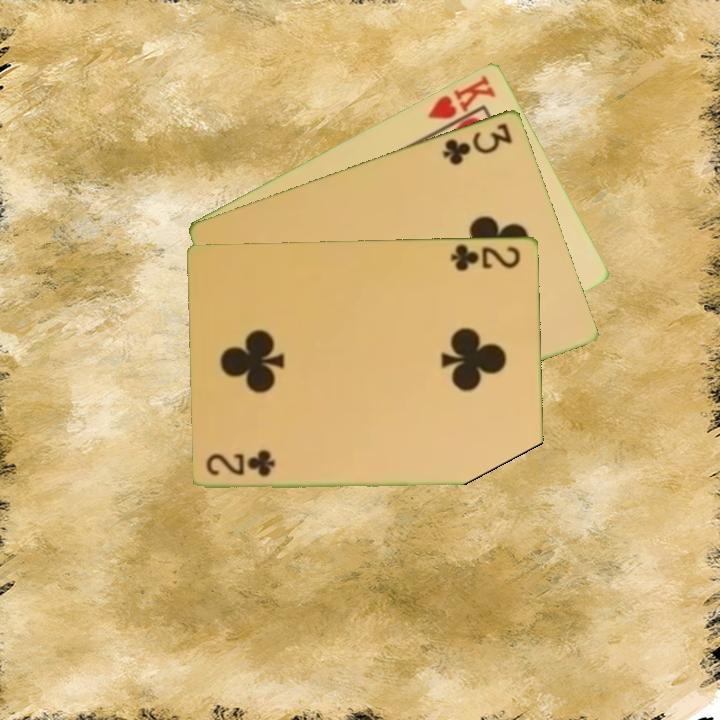2c: (447, 240, 523, 274), (203, 451, 279, 479)
3c: (439, 119, 515, 168)
Kh: (424, 71, 499, 135)
